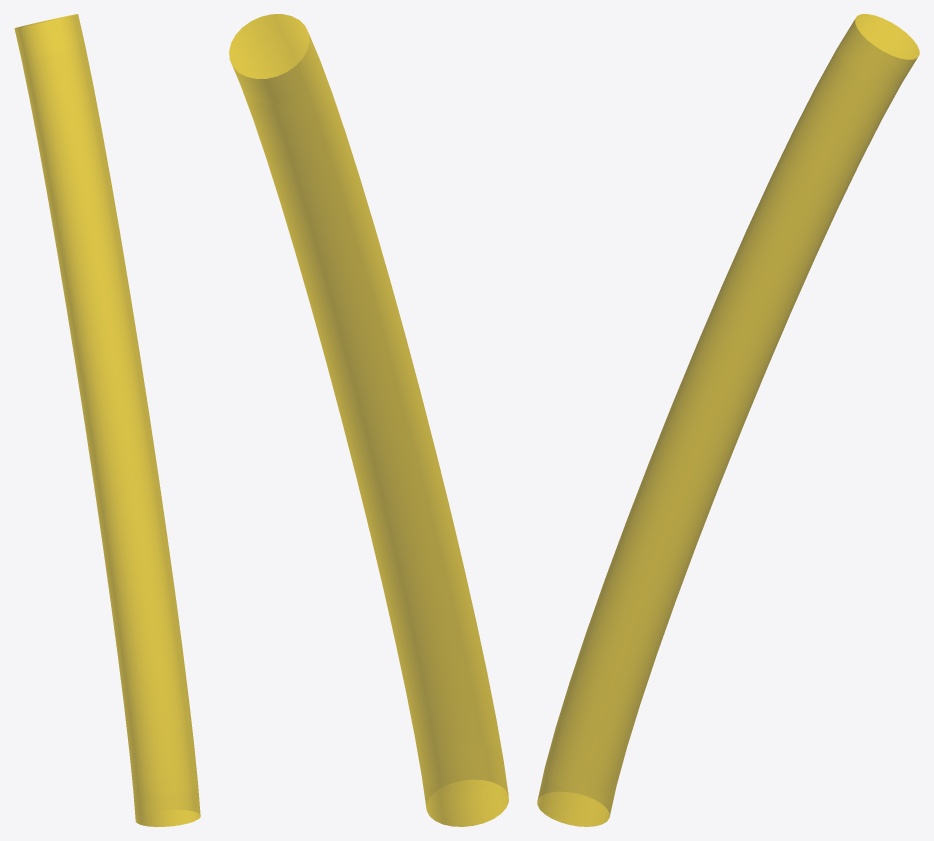
File: Event_15818458_track_32.fbx
The picture shows the model from 3 angles, left to right: view 1: azimuth 30°, elevation 25°; view 2: azimuth 150°, elevation 25°; view 3: azimuth 270°, elevation 25°; orthographic projection. The views are drawn at different scales.
Visible parts, largest first — view 1: Model; view 2: Model; view 3: Model.
Boxes of the visible parts, <box> form: Model: <box>14,14,200,826</box>; Model: <box>229,14,508,826</box>; Model: <box>537,14,919,826</box>.
Size of the model in its own units: 0.0517 by 0.4791 by 0.2062.
